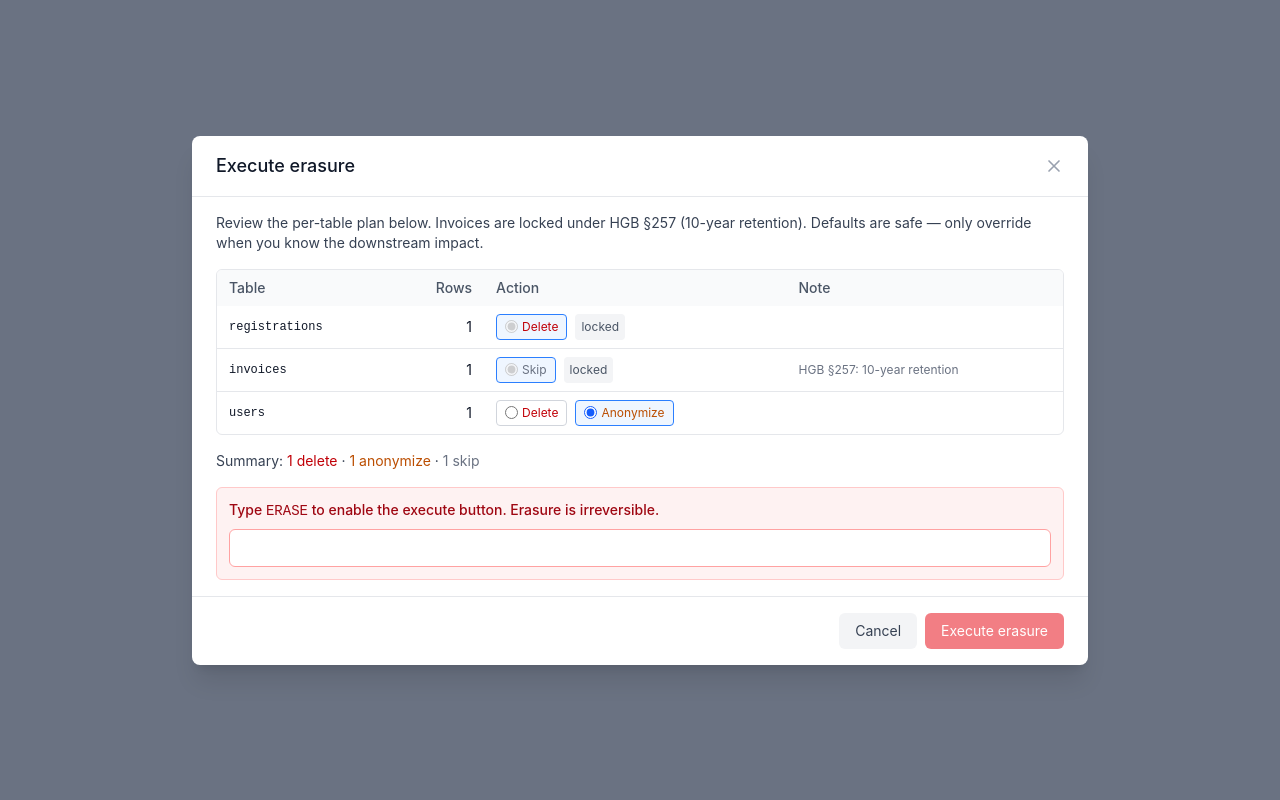
ExecuteErasureModal › gates the execute button behind the ERASE confirmation
Expected: the text "registrations" is shown, [217, 306, 394, 348]
Expected: the button "Execute erasure" is disabled, [925, 612, 1064, 648]
Type "ERASE" into the field labelled "Type ERASE".
click(640, 548); type("ERASE")  # box [229, 528, 1051, 566]
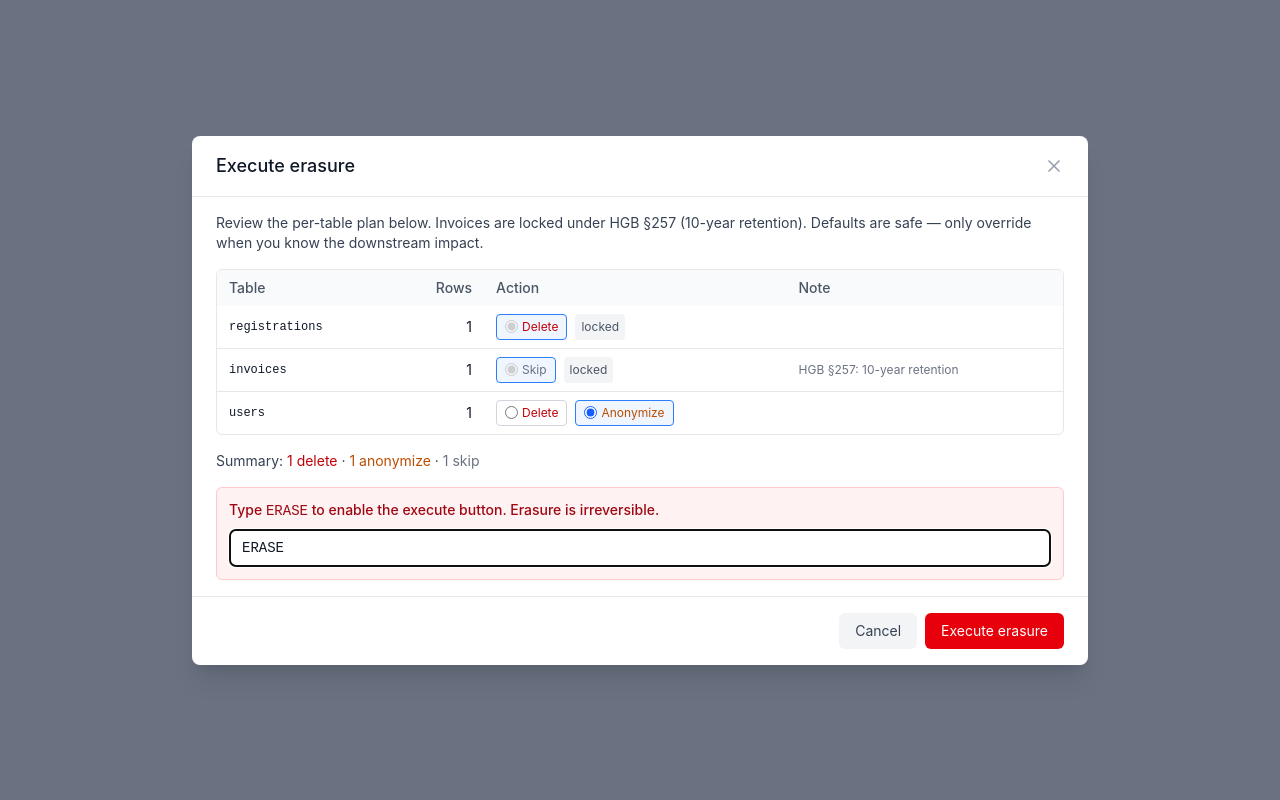
Expected: the button "Execute erasure" is enabled, [925, 612, 1064, 648]
